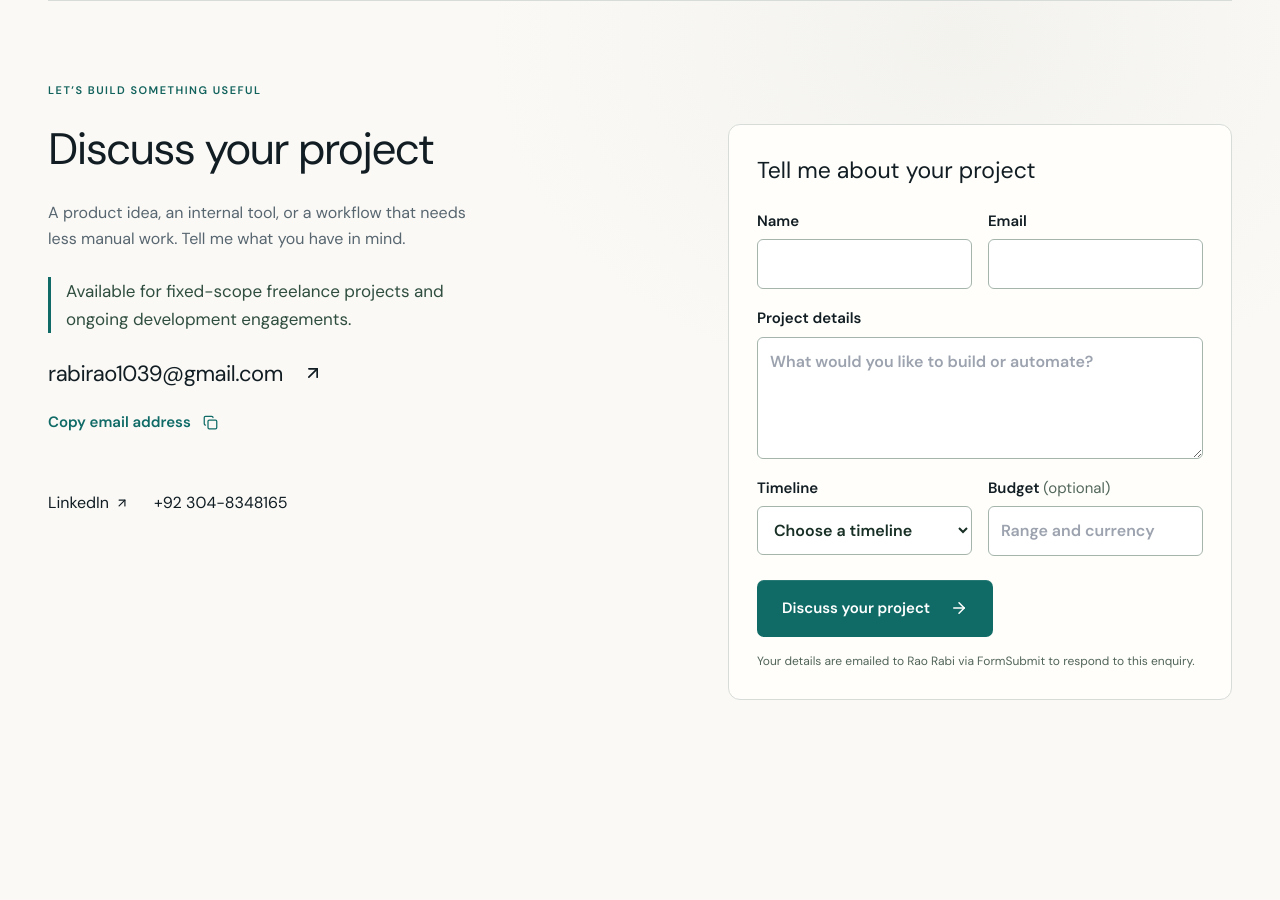
Contact flow › offers the address when clipboard access fails
This screenshot has width=1280, height=900.
Click the button "Copy email address".
click(133, 422)  # box [48, 411, 218, 433]
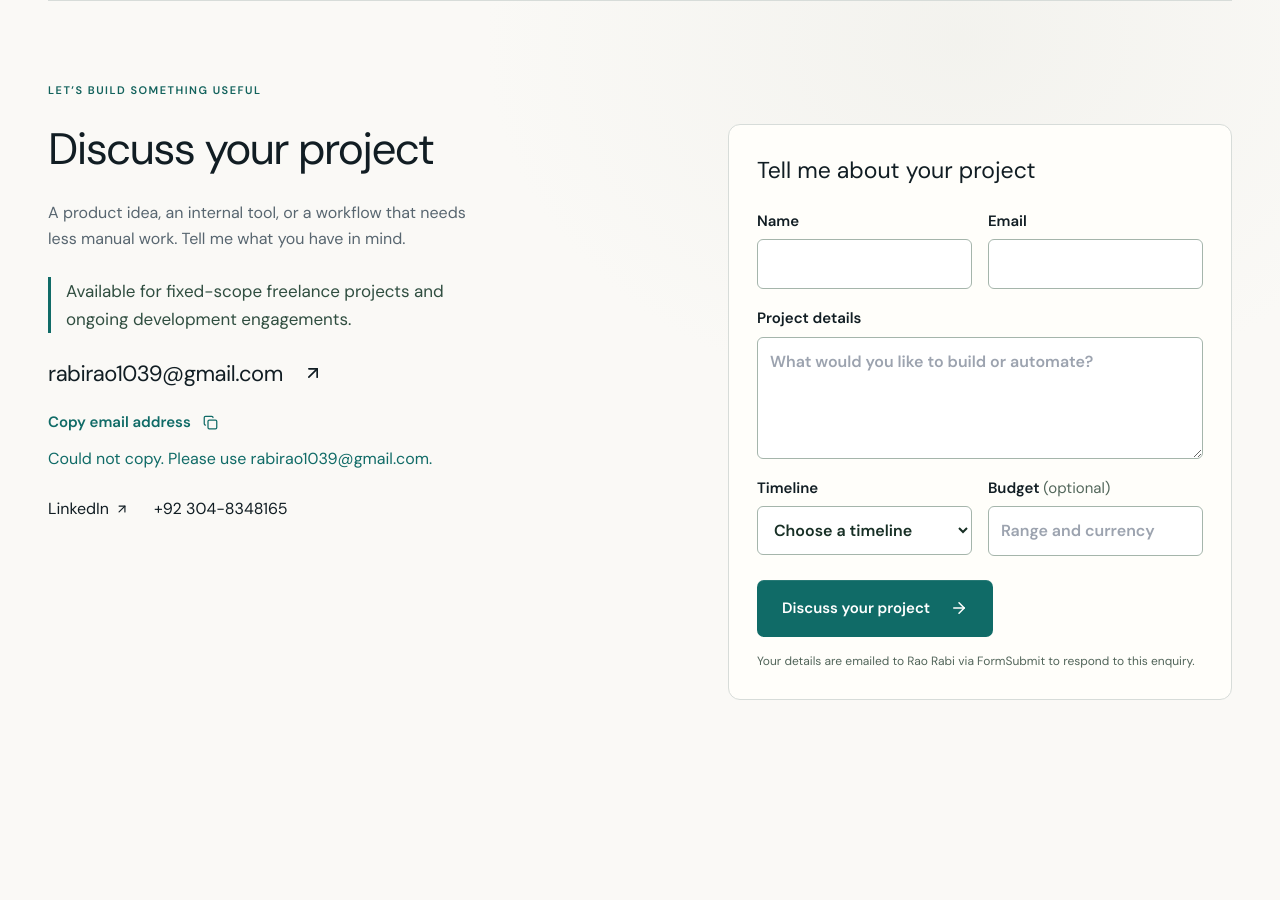
Check: the message reads "Could not copy. Please use rabirao1039@gmail.com.", box [48, 448, 432, 469]
